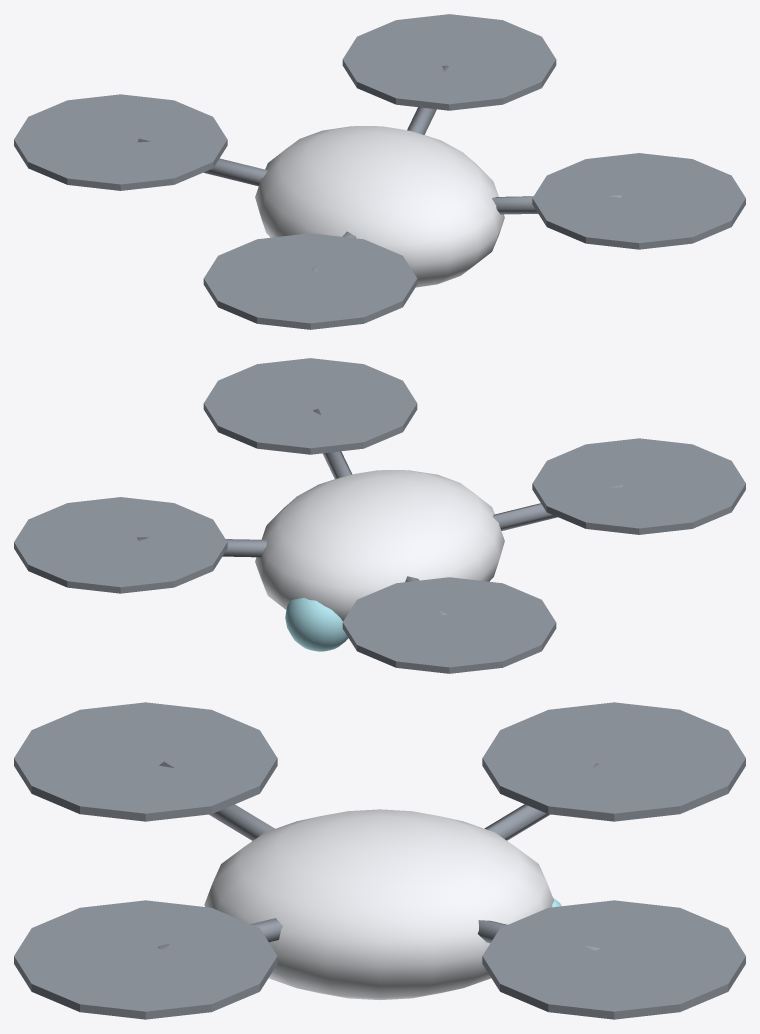
Rendered from Flug_Drohne.fbx.
The picture shows the model from 3 angles, top to bottom: view 1: azimuth 30°, elevation 25°; view 2: azimuth 150°, elevation 25°; view 3: azimuth 270°, elevation 25°; orthographic projection. The views are drawn at different scales.
Parts seen in each view (by area): view 1: Flug_Drohne; view 2: Flug_Drohne; view 3: Flug_Drohne.
Part boxes in pixels (box(x1,y1,x2,y2)): Flug_Drohne: box(14, 14, 745, 329); Flug_Drohne: box(14, 358, 745, 673); Flug_Drohne: box(14, 702, 745, 1019).
Size of the model in its own units: 500 by 110 by 500.
